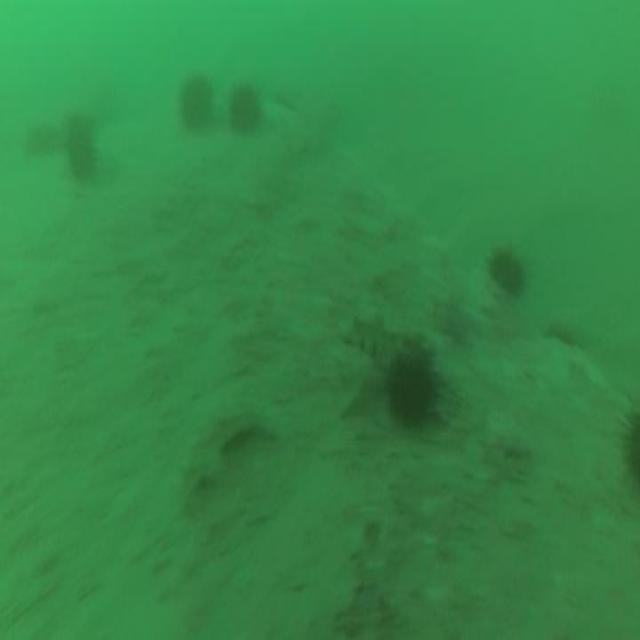echinus: (377, 333, 446, 442), (55, 108, 102, 186), (484, 235, 530, 305), (222, 76, 268, 144), (172, 65, 217, 131), (617, 389, 640, 493)
